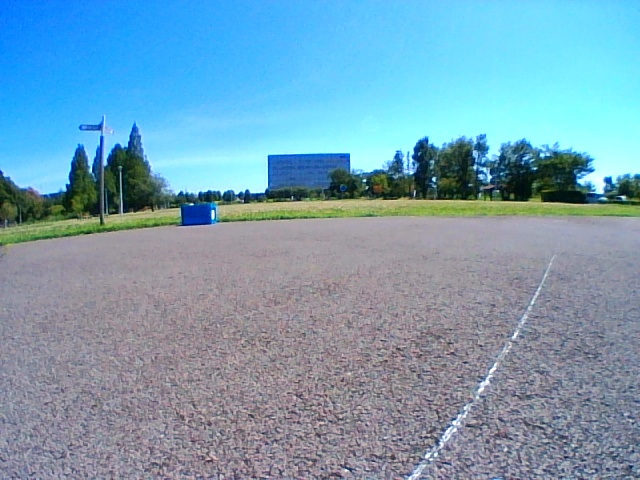blue_box: (181, 203, 215, 224)
tag: (212, 208, 214, 220)
